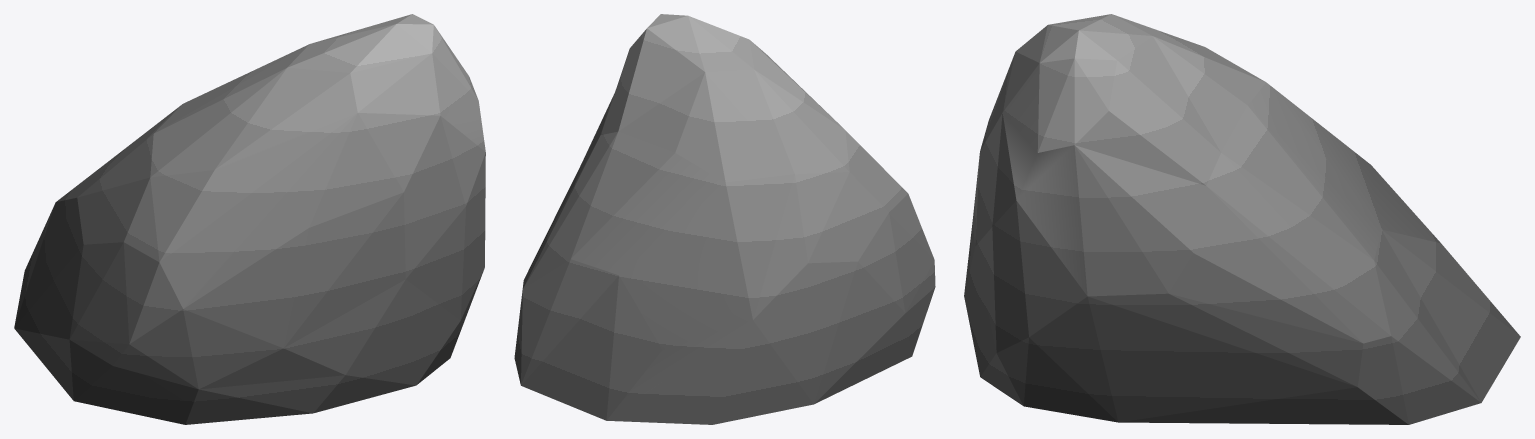
File: Prefab_Rock_F.glb
3 views of the same model, side by side, from view 1: azimuth 30°, elevation 25°; view 2: azimuth 150°, elevation 25°; view 3: azimuth 270°, elevation 25° (orthographic). The views are drawn at different scales.
Parts seen in each view (by area): view 1: Rock_A; view 2: Rock_A; view 3: Rock_A.
Boxes of the visible parts, x1=… form: Rock_A: x1=14, y1=14, x2=485, y2=424; Rock_A: x1=514, y1=14, x2=935, y2=424; Rock_A: x1=964, y1=14, x2=1520, y2=424.
Size of the model in its own units: 1.35 by 1.08 by 1.52.
1 material, 1 textured.
